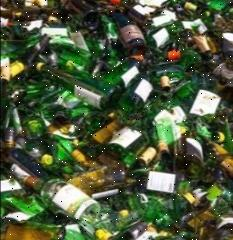glass: (5, 158, 100, 226), (35, 60, 119, 112), (113, 8, 150, 60), (188, 82, 222, 124)
